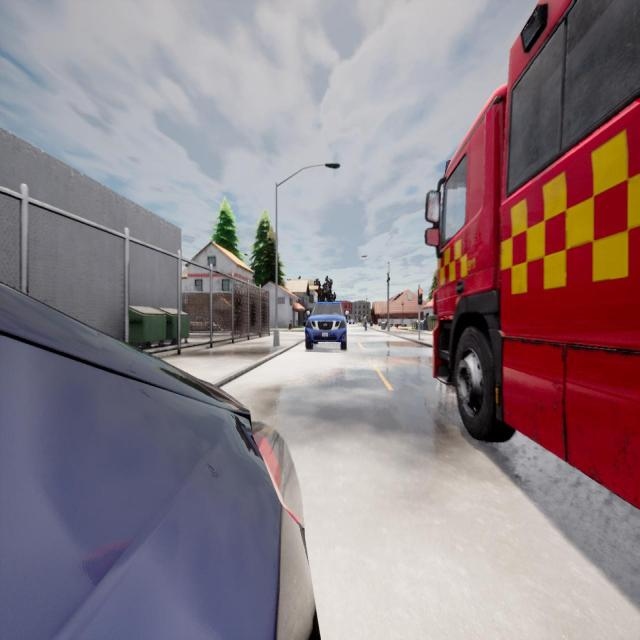Pedestrian: (363, 315, 368, 331)
Vehicle: (0, 289, 317, 640), (429, 0, 640, 508), (306, 302, 346, 350), (349, 318, 354, 324)
traffic_light: (418, 289, 422, 305)
